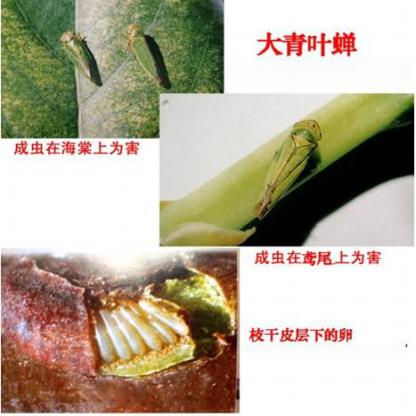Green-Leafhopper: (256, 117, 323, 220), (121, 21, 168, 92), (53, 28, 104, 90)
